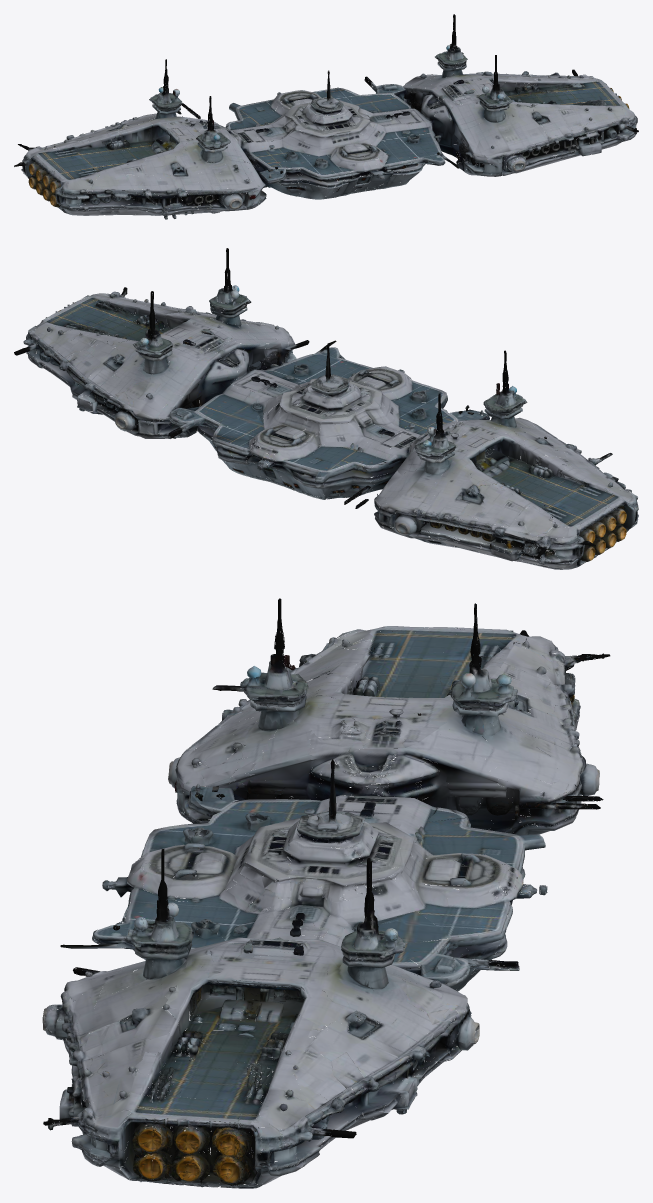
The model's file is seed_one_modular_opt.glb.
3 renders of one model, top to bottom at view 1: azimuth 30°, elevation 25°; view 2: azimuth 150°, elevation 25°; view 3: azimuth 270°, elevation 25°, orthographic. The views are drawn at different scales.
Parts seen in each view (by area): view 1: world; view 2: world; view 3: world.
Boxes of the visible parts, box(x1,y1,x2,y2) form: world: box(14, 14, 638, 219); world: box(14, 248, 638, 569); world: box(42, 598, 610, 1188).
Size of the model in its own units: 1 by 0.2059 by 0.4649.
Materials: 1 (1 with a texture image).
